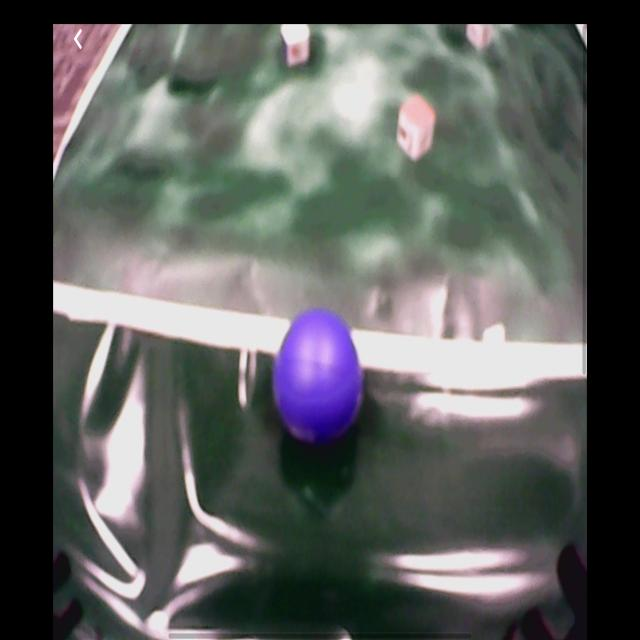ball: (275, 310, 366, 441)
